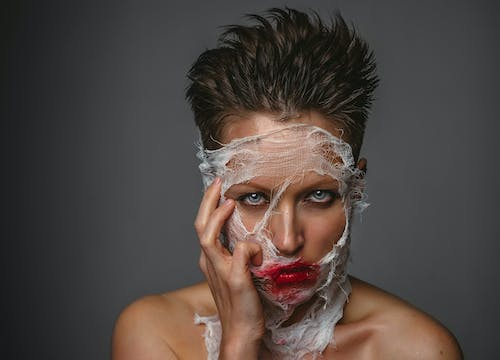blood: (254, 256, 323, 298)
